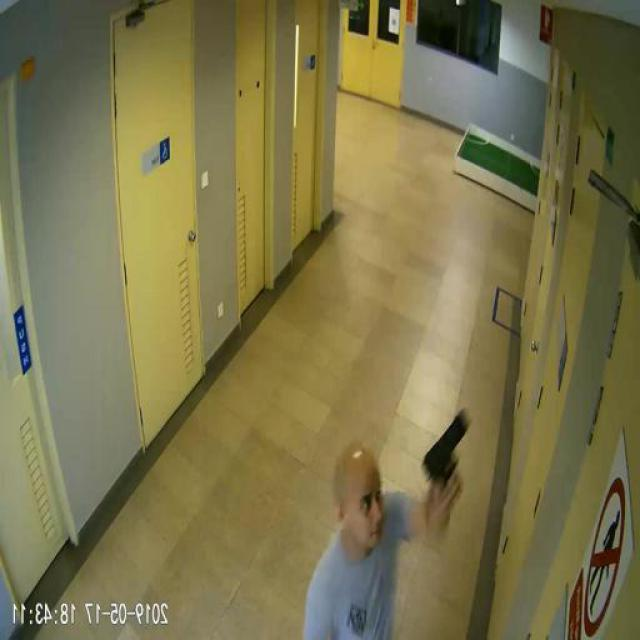weapon: (422, 410, 470, 496)
